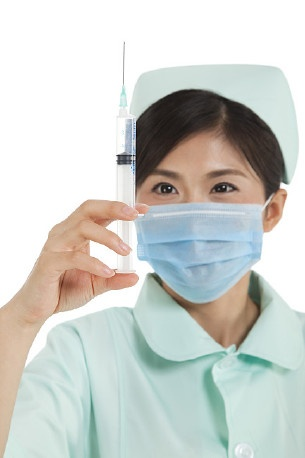Mask: (131, 158, 276, 303)
